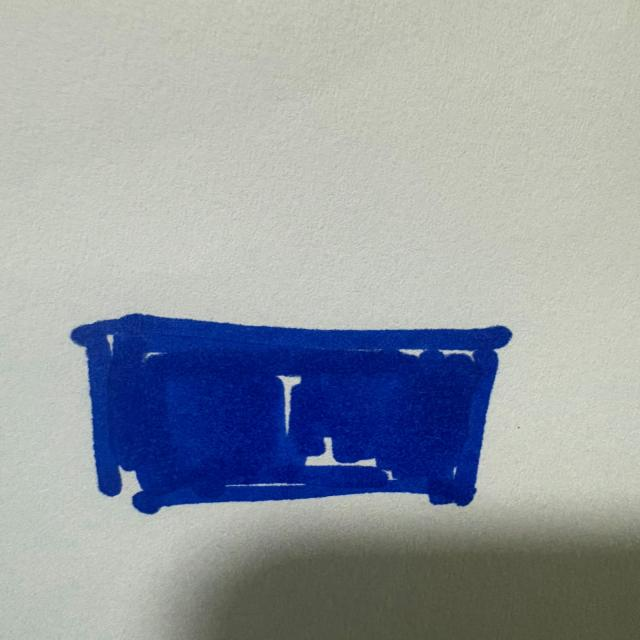Rectangle: (71, 314, 511, 514)
